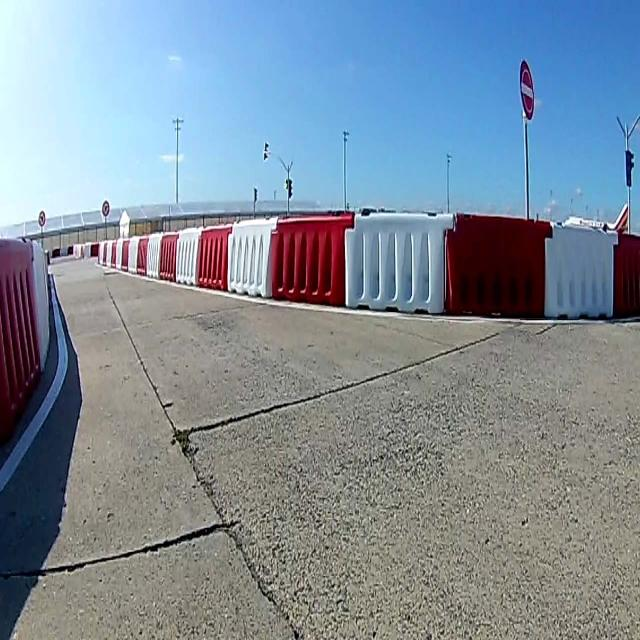girisyok: (517, 56, 535, 118)
